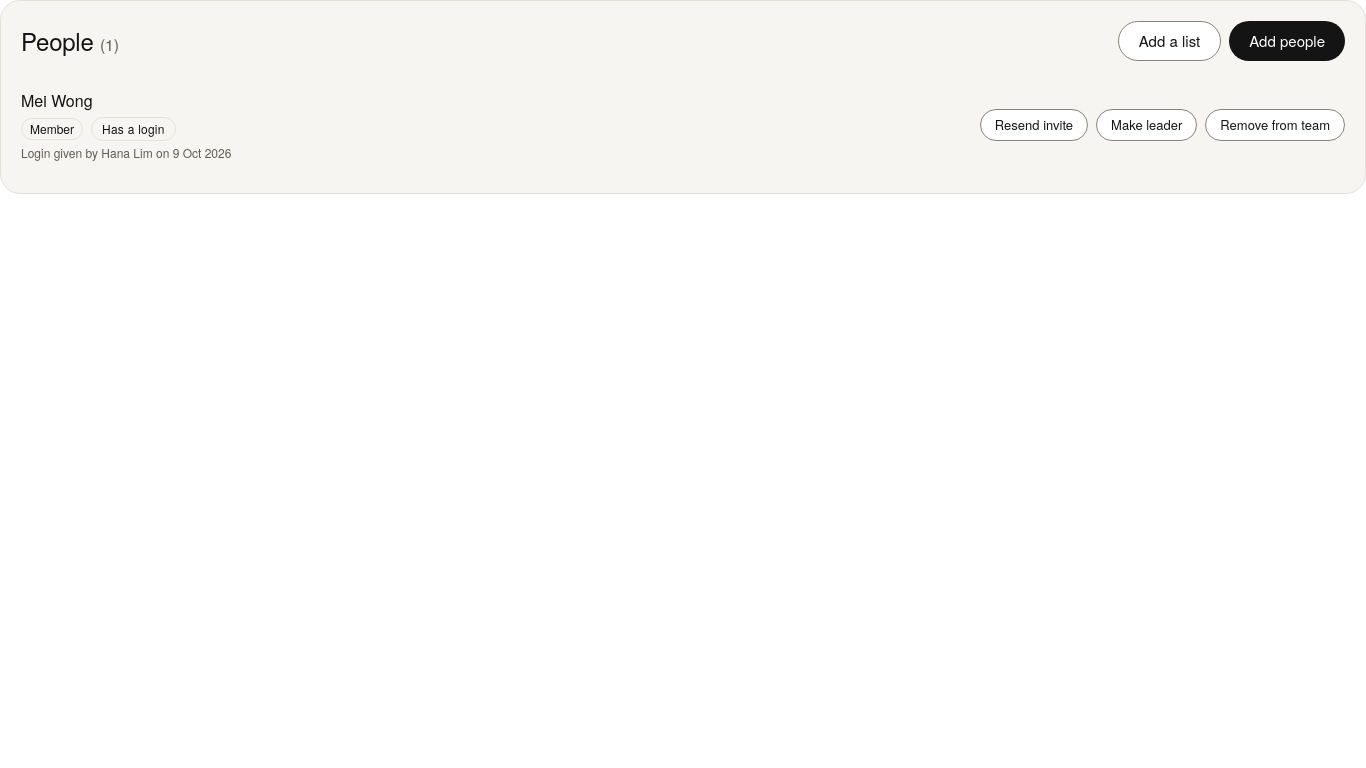
Scenario: PeopleSection › asks before resending an invite and says it was sent
Click the button "Resend invite" at (1034, 125), box [980,109,1088,141]
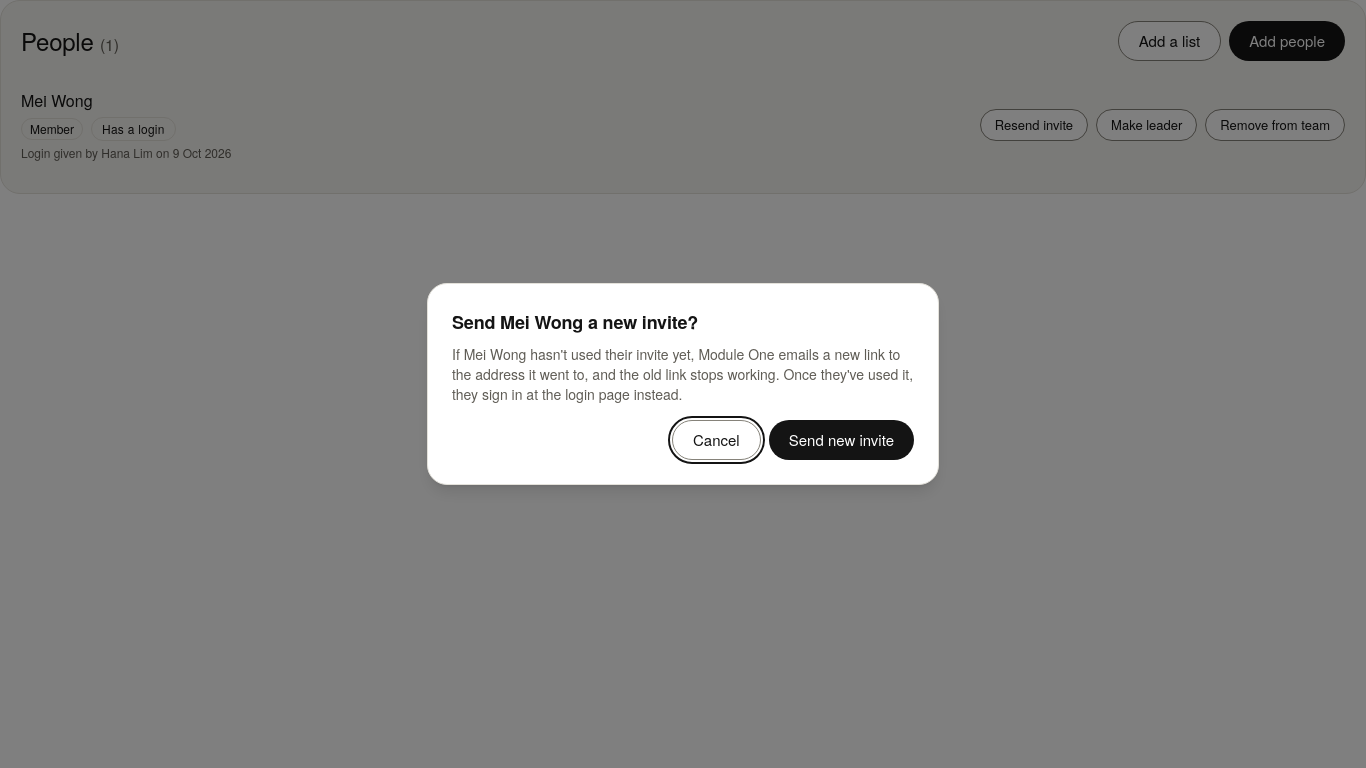
Now the dialog shows "the old link stops working", box [452,344,913,404]
Click the button "Send new invite" at (841, 440), box [769,420,914,460]
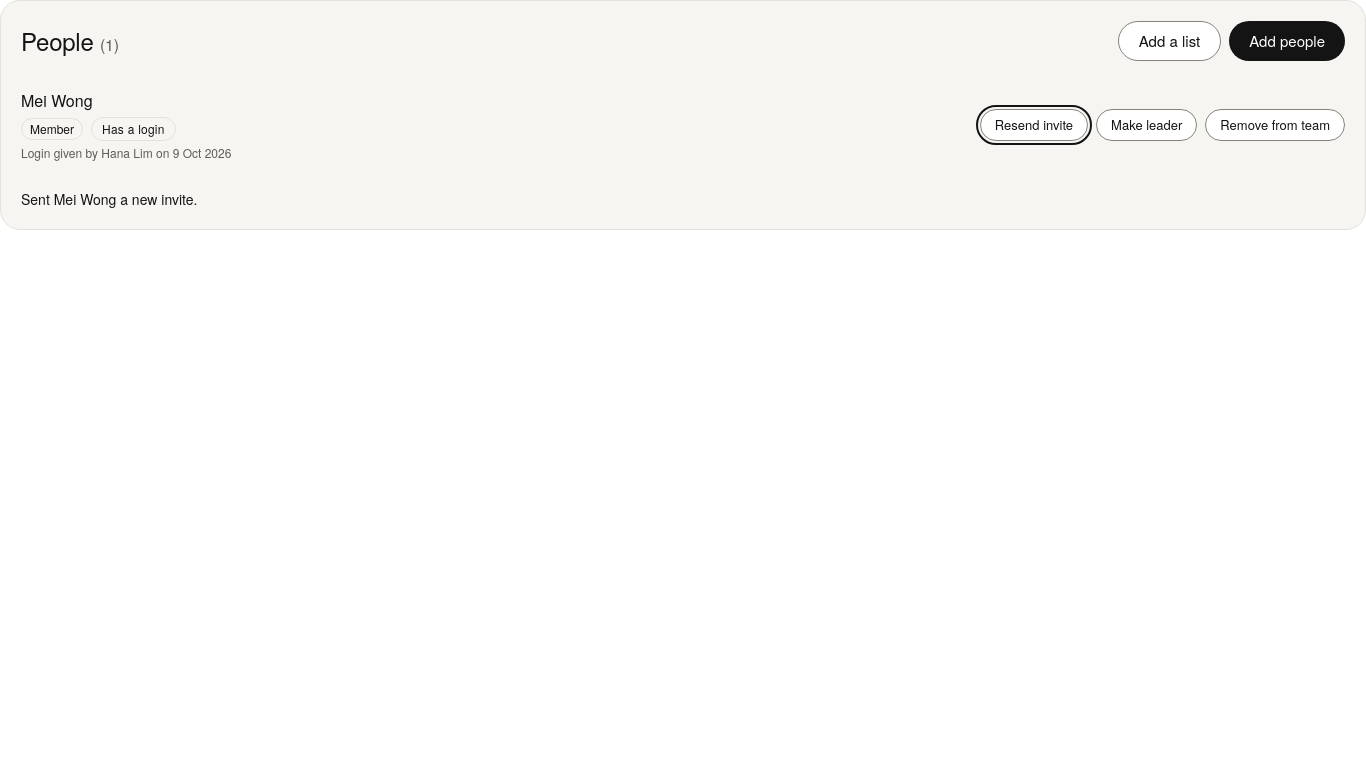
Now the text "Sent Mei Wong a new invite." is shown, box [21,189,197,209]
